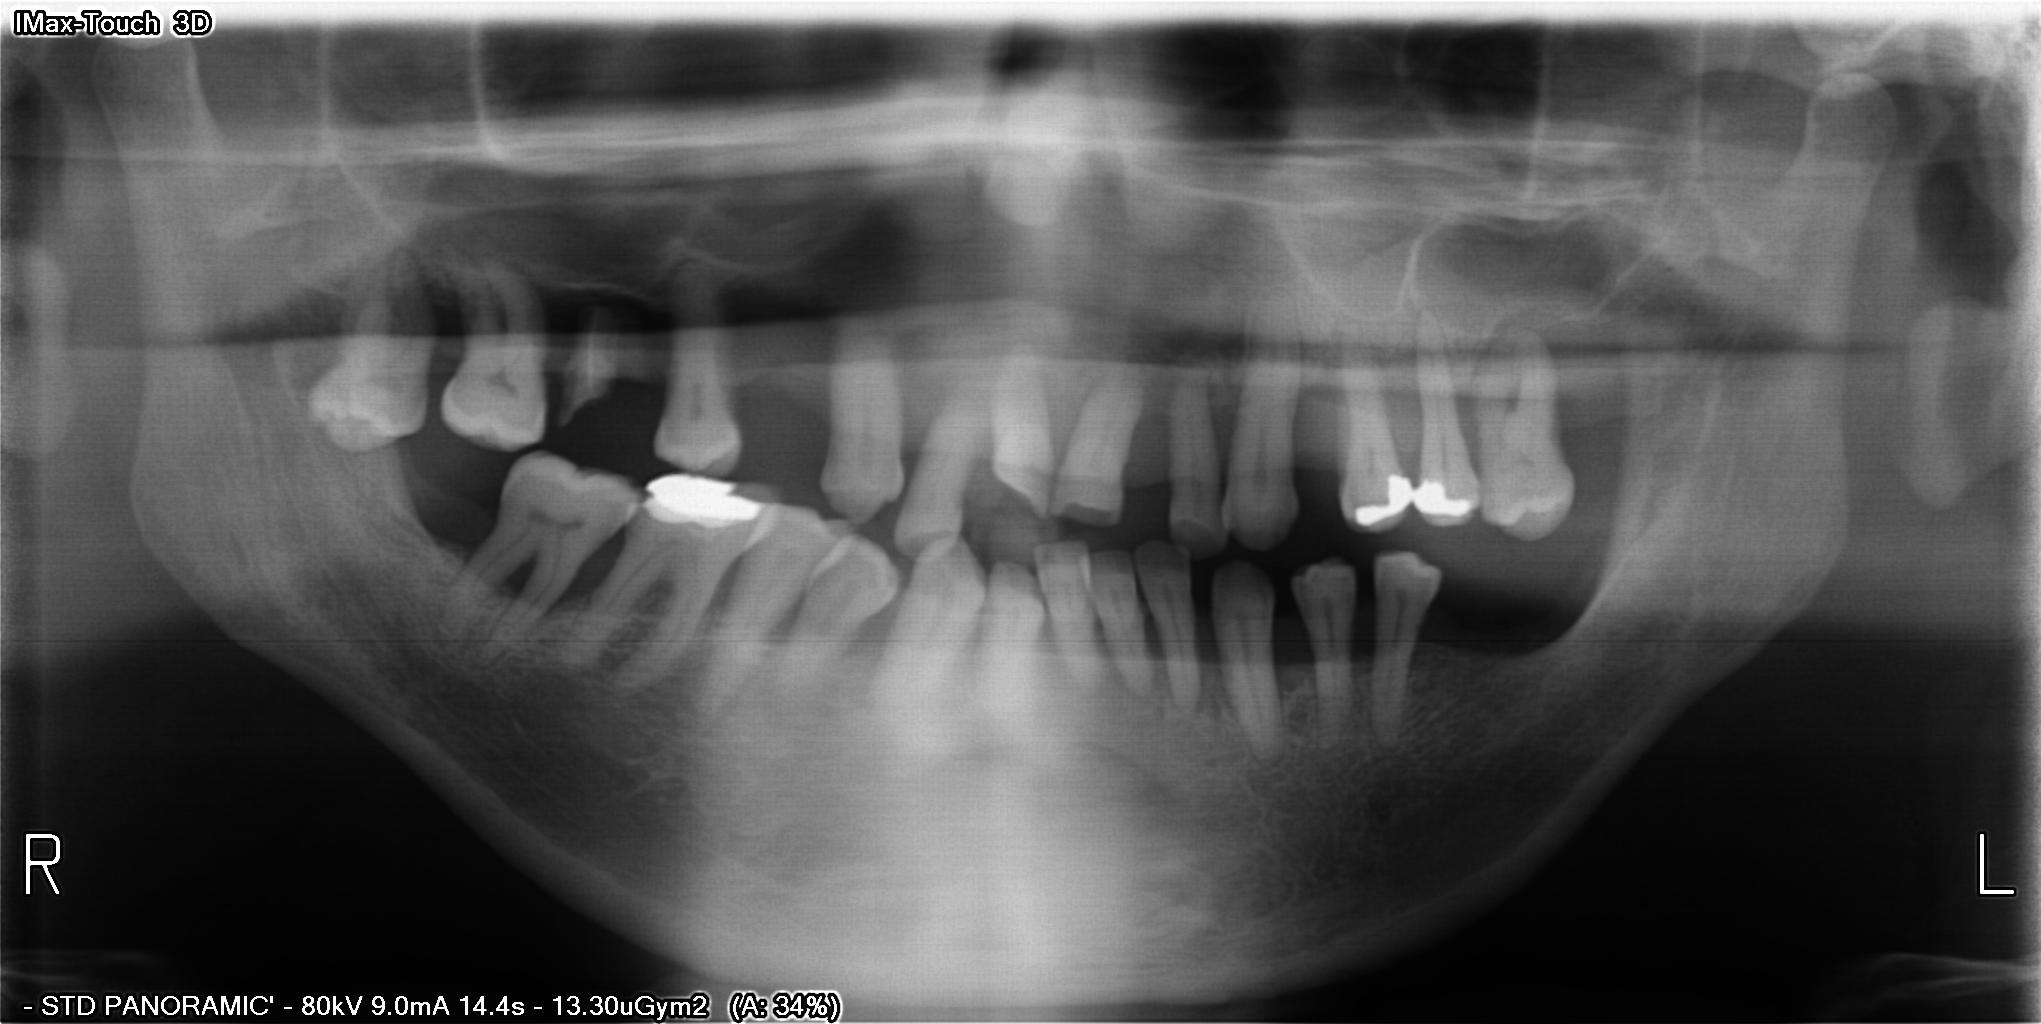Çürük: (640, 466, 760, 525), (1353, 468, 1416, 533), (1410, 475, 1477, 522)
